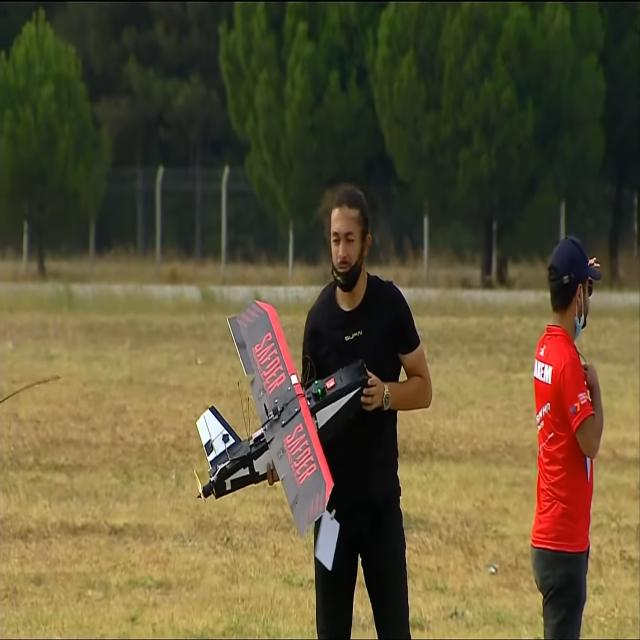iha: (191, 300, 366, 533)
